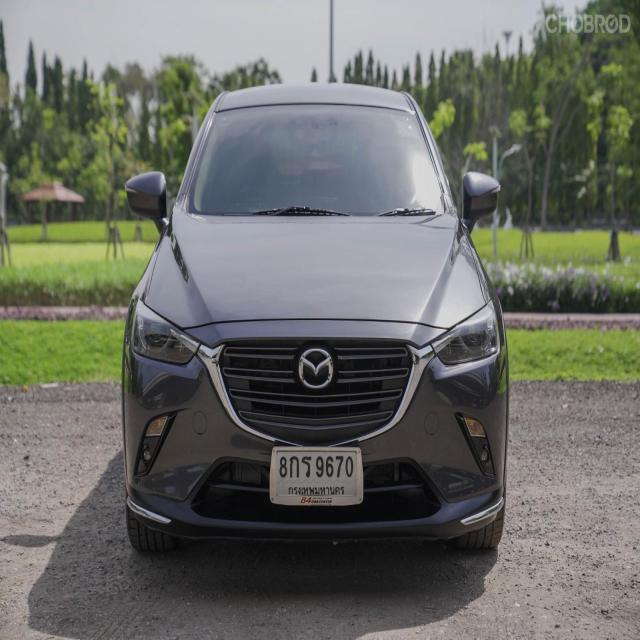license_plate: (264, 438, 366, 510)
